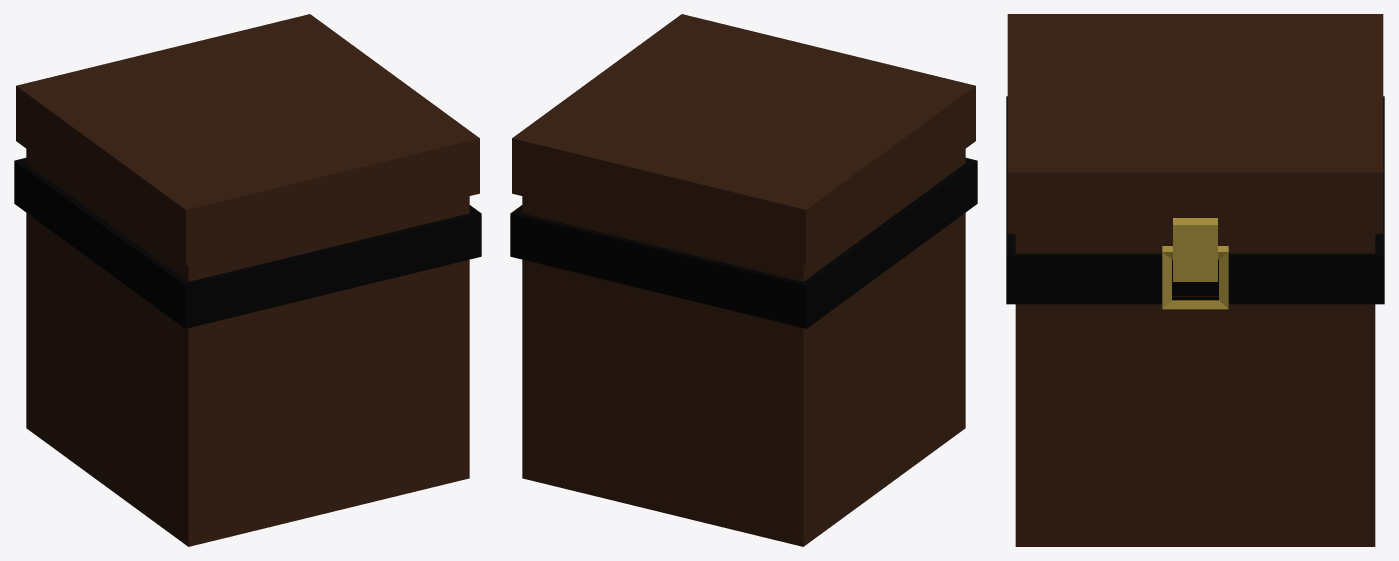
File: ChestClosed.fbx
3 renders of one model, left to right at view 1: azimuth 30°, elevation 25°; view 2: azimuth 150°, elevation 25°; view 3: azimuth 270°, elevation 25°, orthographic. The views are drawn at different scales.
Visible parts, largest first — view 1: Chest, ClosedTop; view 2: Chest, ClosedTop; view 3: Chest, ClosedTop.
Part boxes in pixels (x1,y1,x2,y2): Chest: [14, 149, 481, 546]; ClosedTop: [16, 14, 479, 265]; Chest: [510, 149, 977, 546]; ClosedTop: [512, 14, 975, 265]; Chest: [1006, 96, 1384, 546]; ClosedTop: [1007, 14, 1383, 281].
Size of the model in its own units: 219 by 232 by 211.
